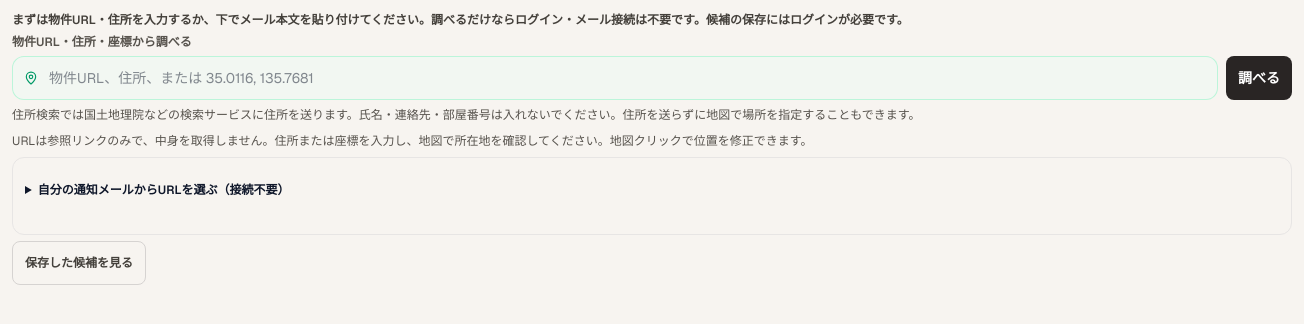
Test case: 住所が引けなかったとき › 頁が地図を持っていなければボタンは出さない
The width and height of the screenshot is (1304, 324).
Type "愛知県名古屋市中村区名駅1丁目" into the field labelled "物件URL・住所・座標から調べる". click: (615, 78)
box: [12,56,1218,100]
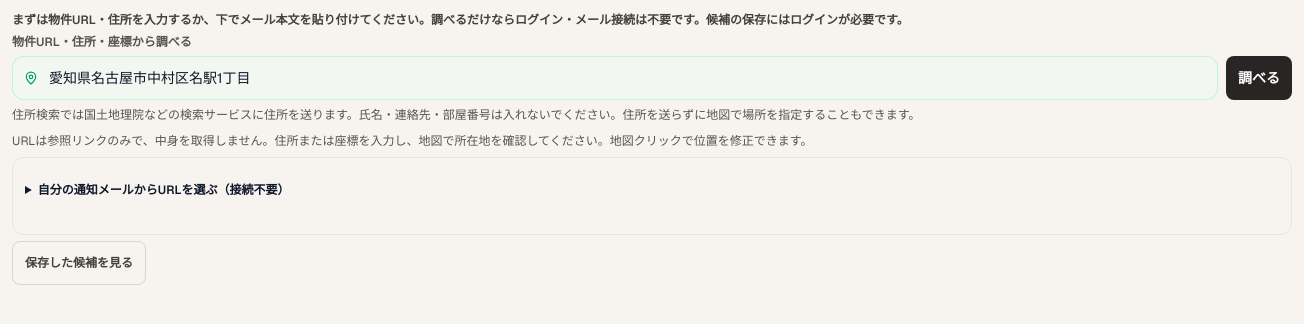
Click the button "調べる". click: (1259, 78)
box: [1226,56,1292,100]
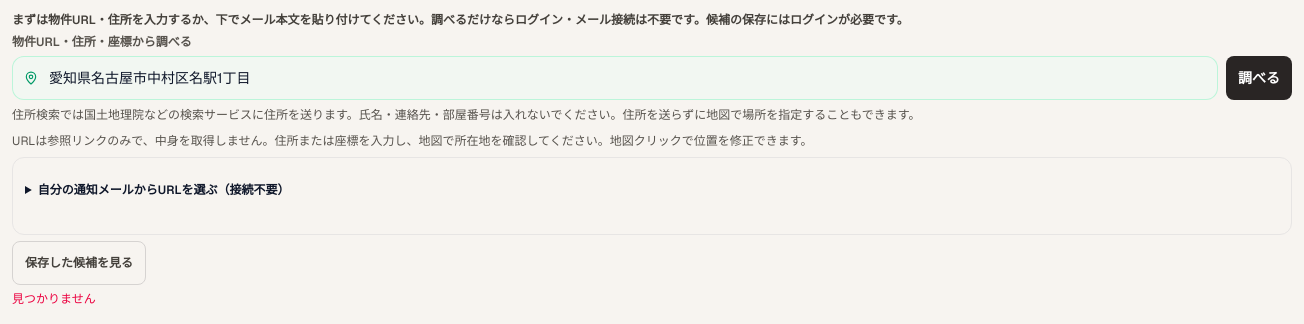
Now the text "見つかりません" is shown, box [12,291,96,307]
